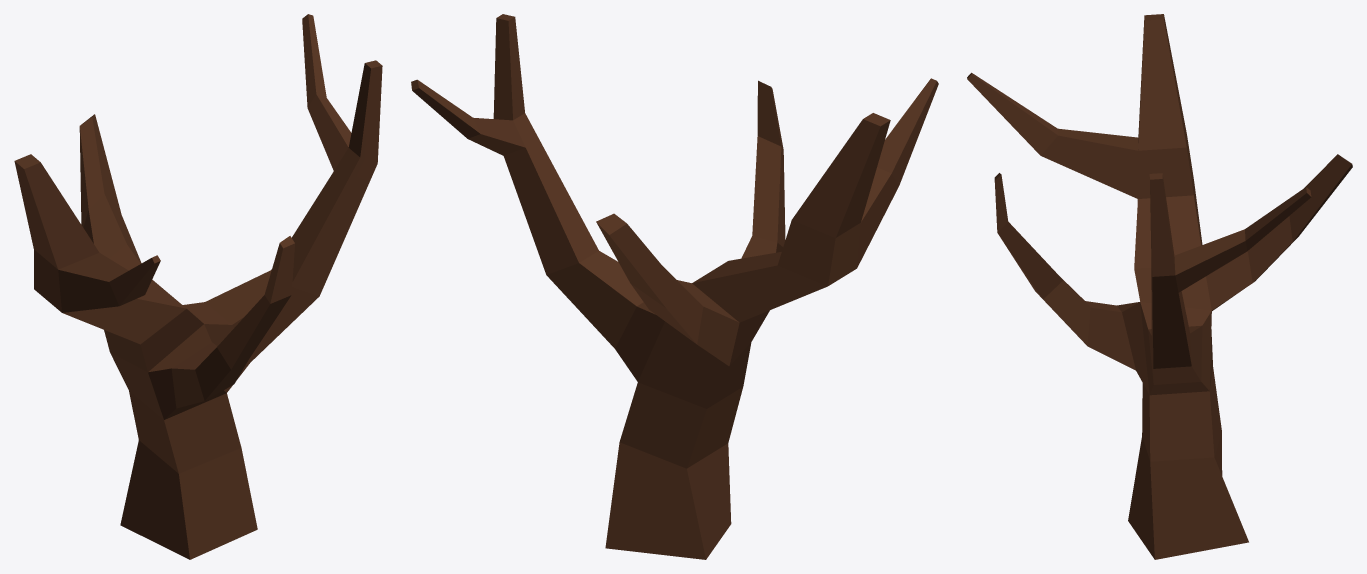
File: DeadOak_03.fbx
The picture shows the model from 3 angles, left to right: view 1: azimuth 30°, elevation 25°; view 2: azimuth 150°, elevation 25°; view 3: azimuth 270°, elevation 25°; orthographic projection. The views are drawn at different scales.
Visible parts, largest first — view 1: DeadOak3; view 2: DeadOak3; view 3: DeadOak3.
Part boxes in pixels (x1,y1,x2,y2): DeadOak3: [14, 14, 382, 559]; DeadOak3: [411, 14, 938, 559]; DeadOak3: [967, 14, 1352, 559].
Bounding box in the file's own units: 846 × 958 × 757.
